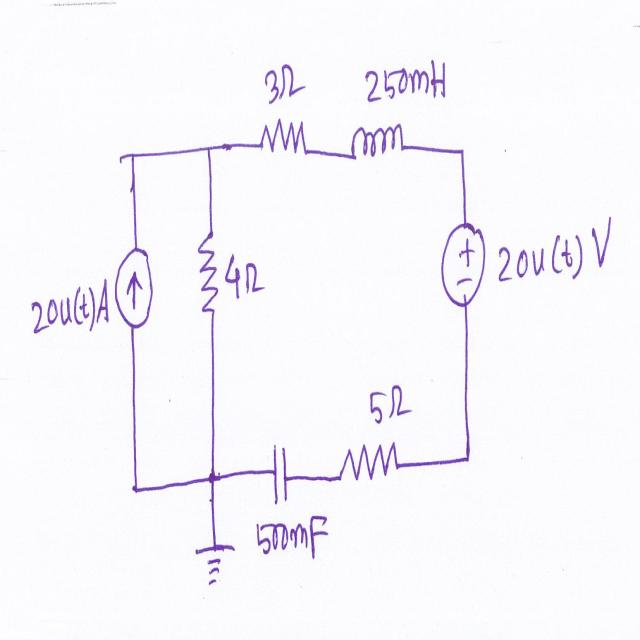capacitor: (271, 442, 290, 507)
current_source: (113, 237, 156, 335)
ground: (191, 539, 238, 601)
inductor: (346, 118, 407, 174)
resistor: (336, 430, 402, 491), (253, 106, 307, 161), (196, 223, 224, 324)
voltage_source: (439, 219, 494, 321)
